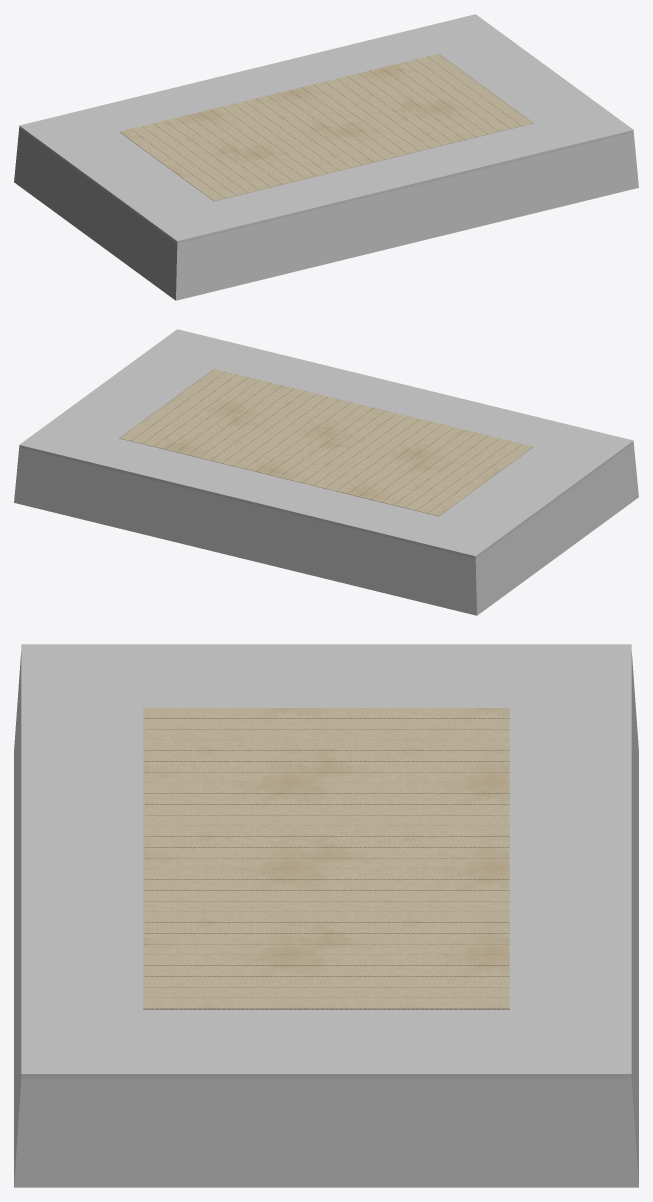
Rendered from SM_Art_Authored_KnowledgeChartTable_1500x900x180_1_5.gltf.
3 renders of one model, top to bottom at view 1: azimuth 30°, elevation 25°; view 2: azimuth 150°, elevation 25°; view 3: azimuth 270°, elevation 25°, orthographic. The views are drawn at different scales.
Parts seen in each view (by area): view 1: SM_Art_Authored_KnowledgeChartTable_1500x900x180_1_5; view 2: SM_Art_Authored_KnowledgeChartTable_1500x900x180_1_5; view 3: SM_Art_Authored_KnowledgeChartTable_1500x900x180_1_5.
Part boxes in pixels (x1,y1,x2,y2): SM_Art_Authored_KnowledgeChartTable_1500x900x180_1_5: [14, 14, 638, 300]; SM_Art_Authored_KnowledgeChartTable_1500x900x180_1_5: [14, 329, 638, 615]; SM_Art_Authored_KnowledgeChartTable_1500x900x180_1_5: [14, 644, 638, 1187].
Bounding box in the file's own units: 15.22 × 1.81 × 9.22.
